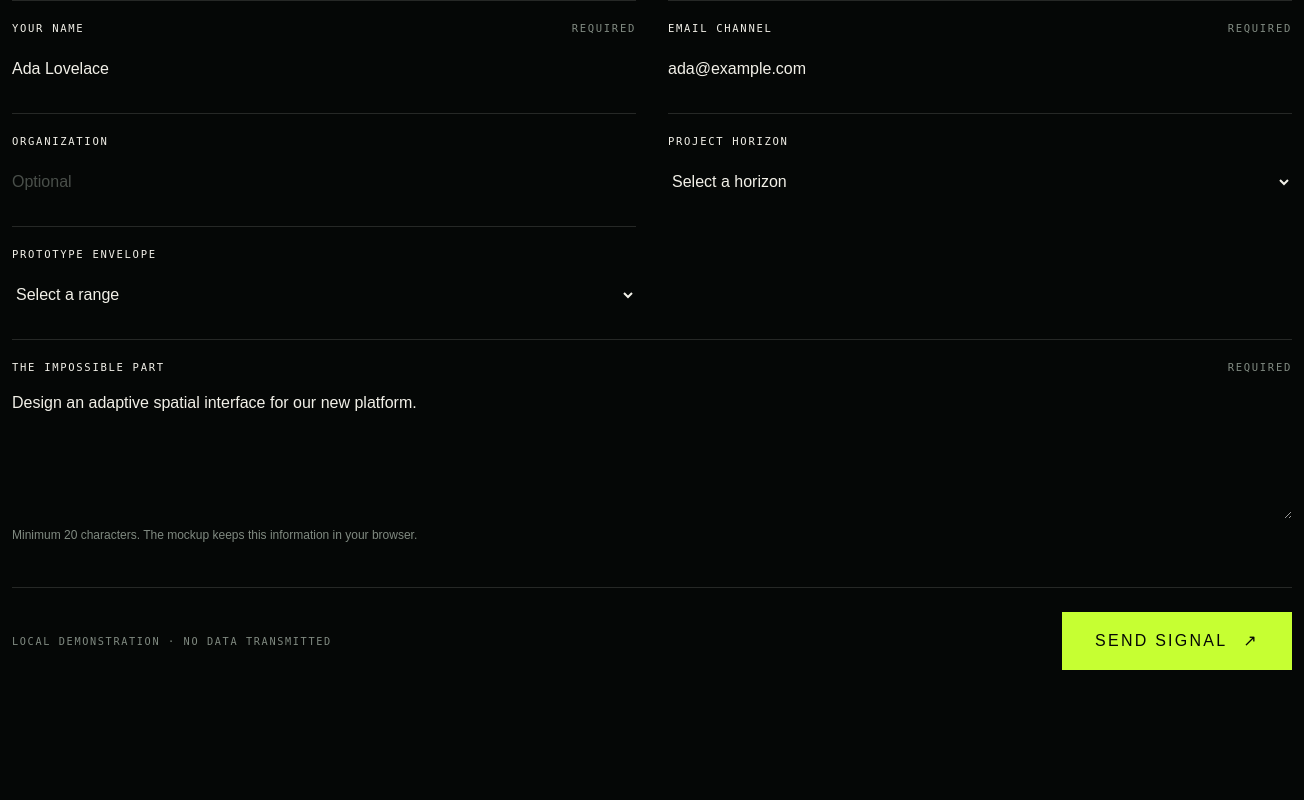
Test: TransmissionForm › passes validated data to the injected adapter
This screenshot has width=1304, height=800.
Click the button "Send signal ↗": (1177, 641) [1062,612,1292,670]
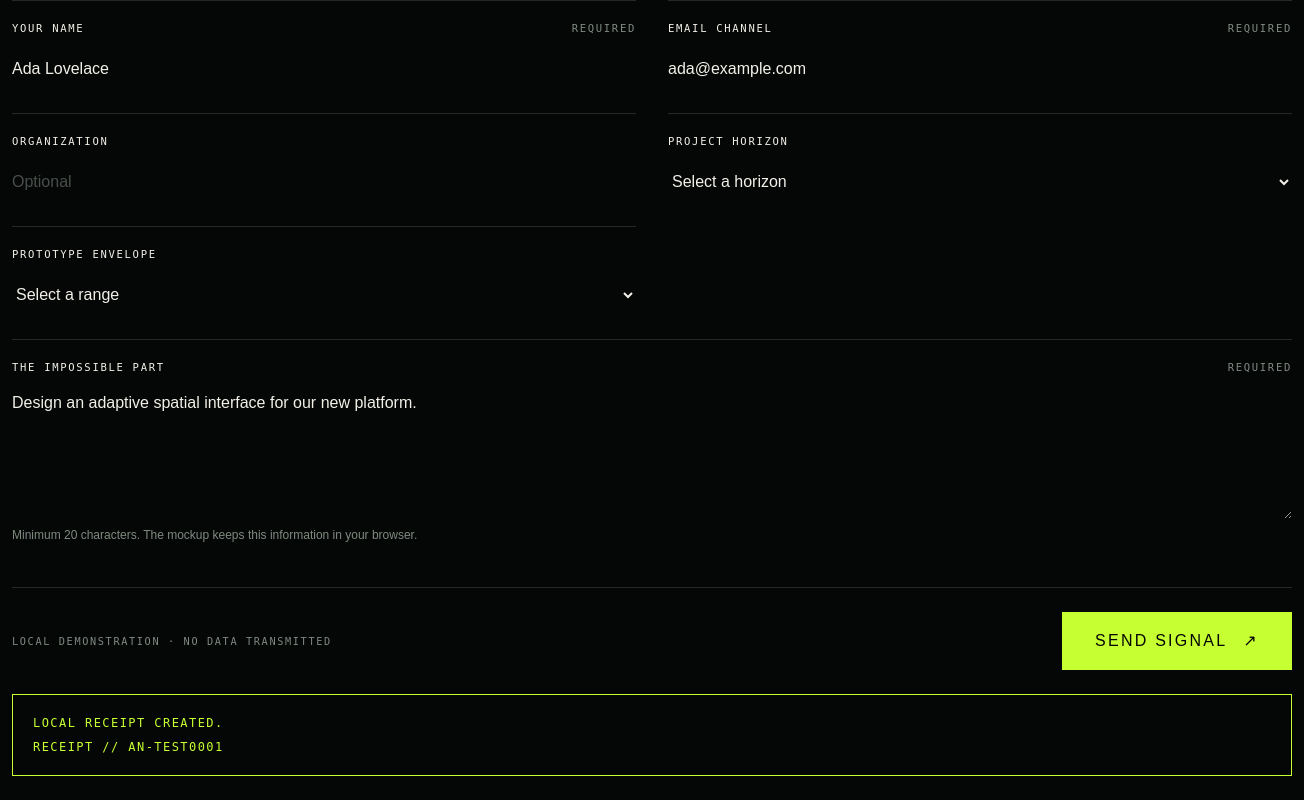
Check: the message shows "Local receipt created.", box [33,716,224,730]
